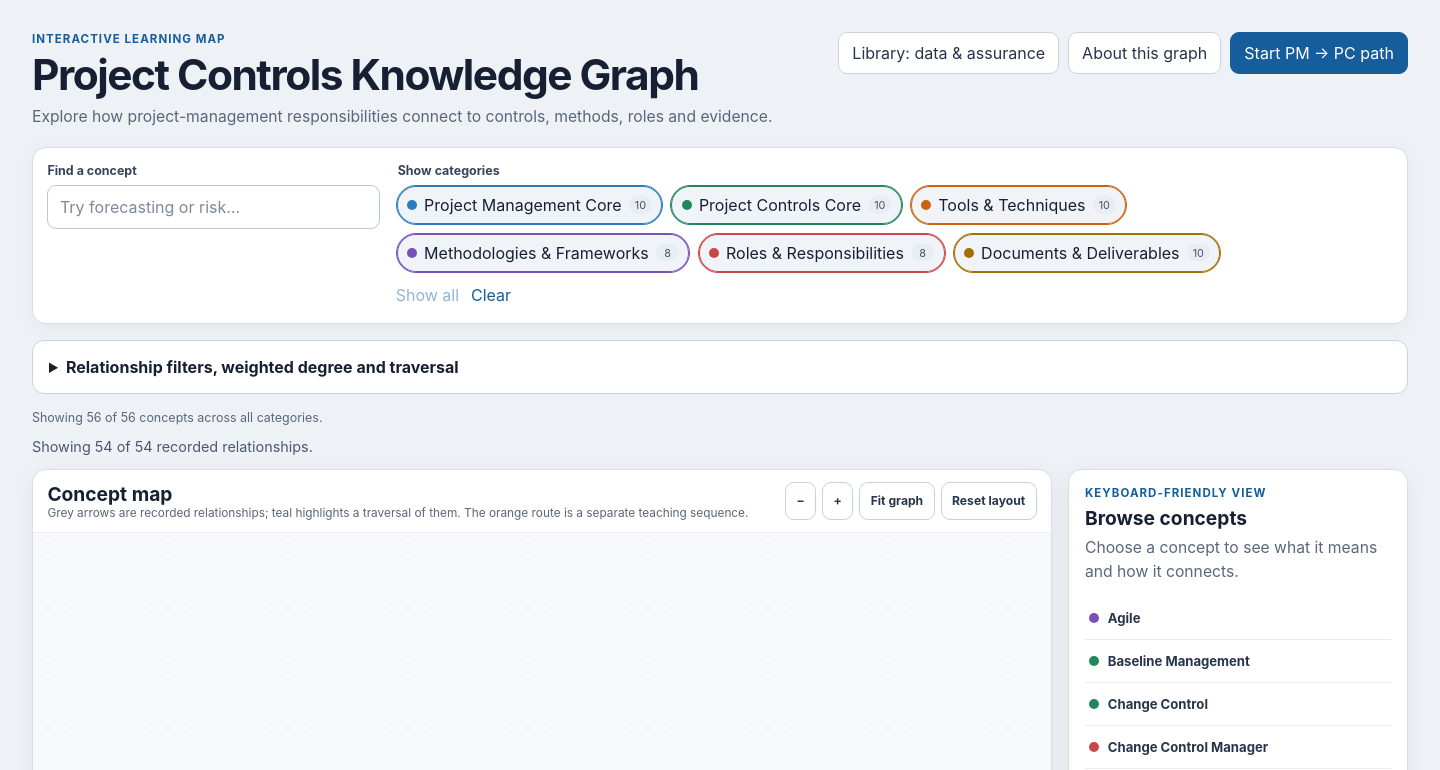
Test: Project Controls Knowledge Graph › keeps keyboard focus within About until it closes
Click the button "About this graph": [1145, 53] box [1068,32,1221,74]
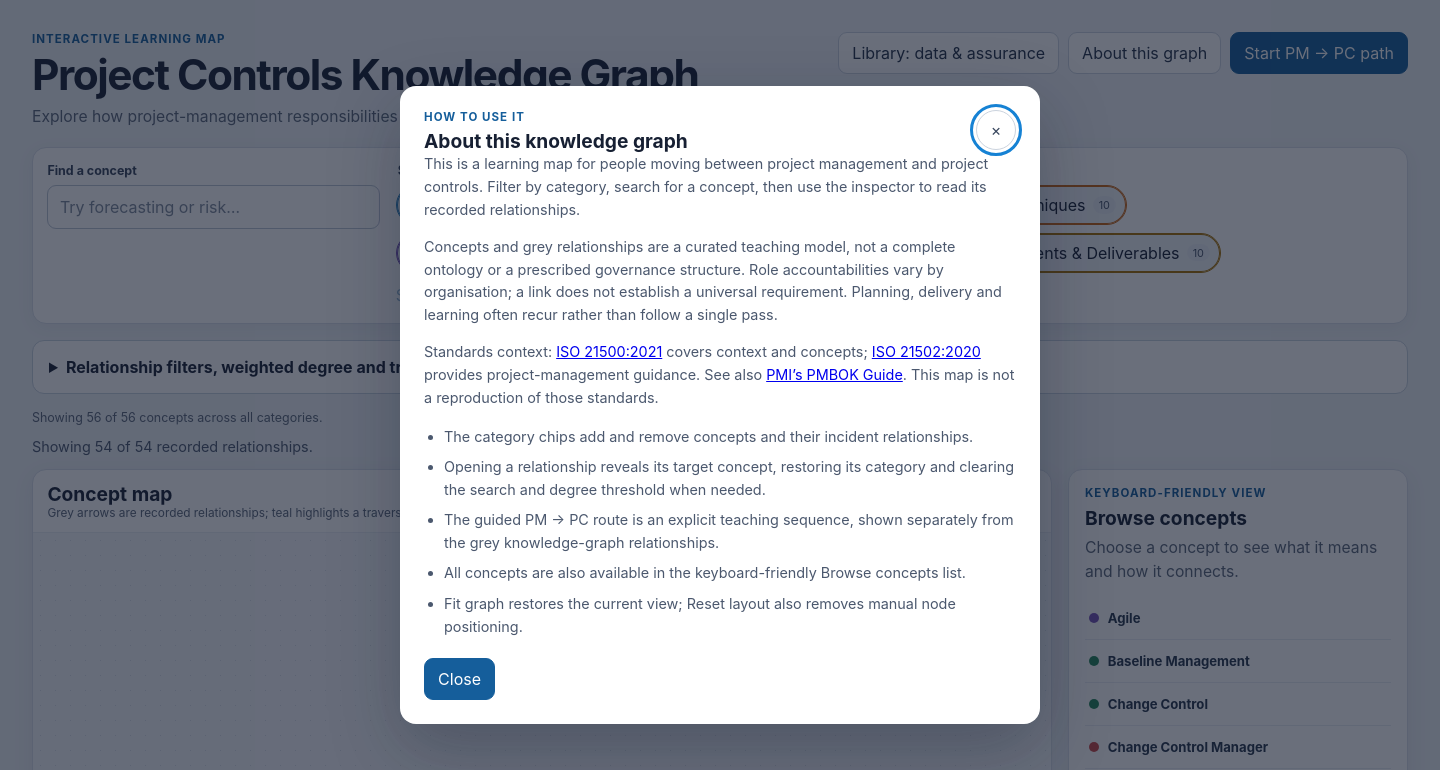
Press Shift+Tab
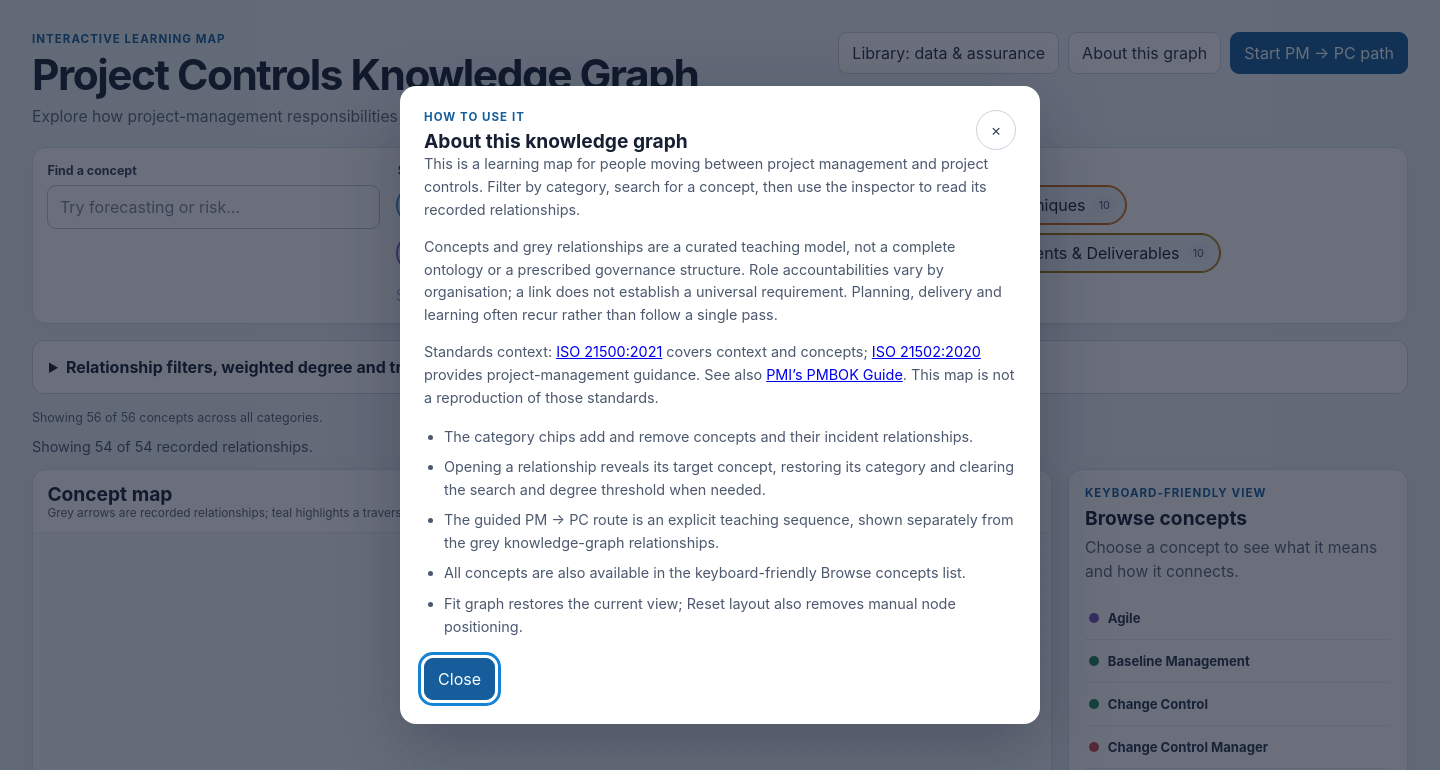
Press Tab
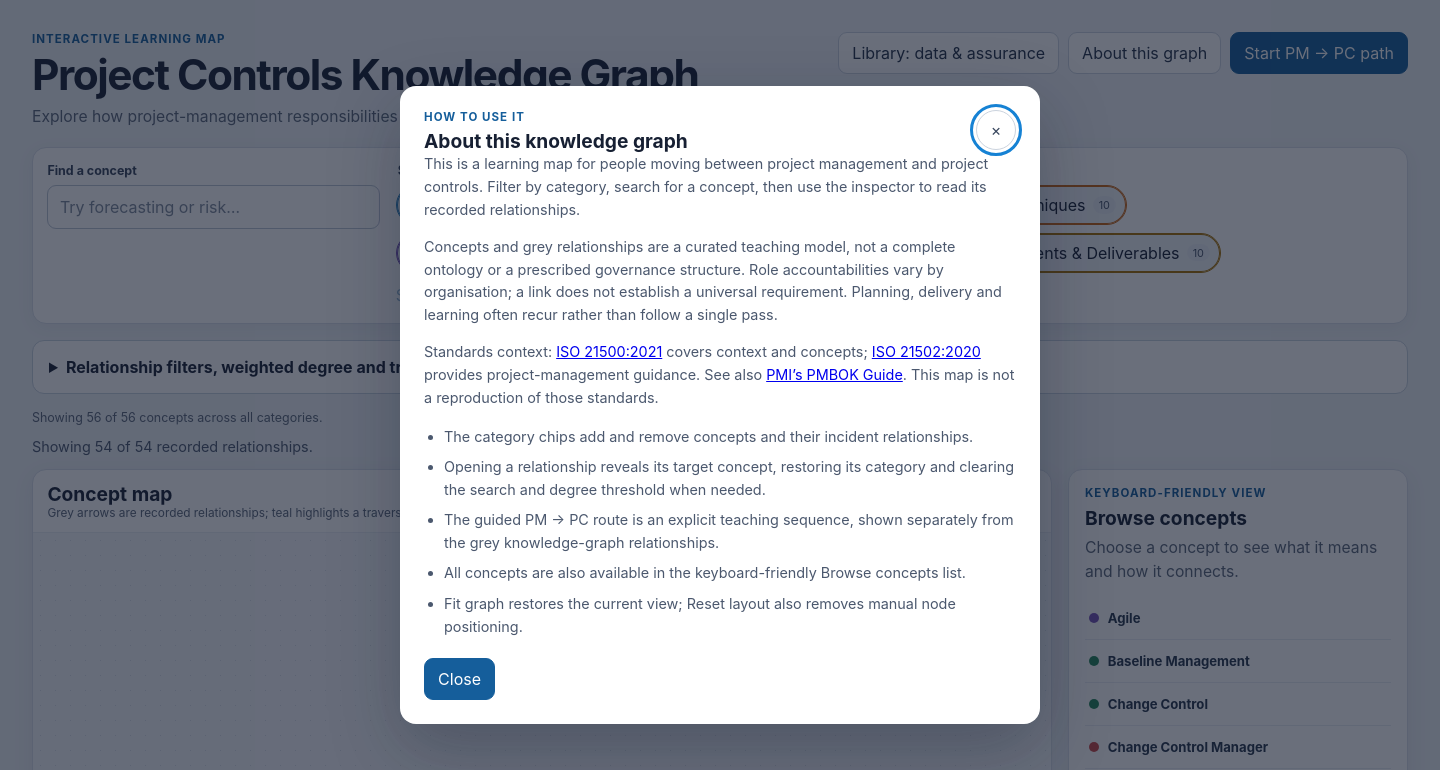
Press Escape
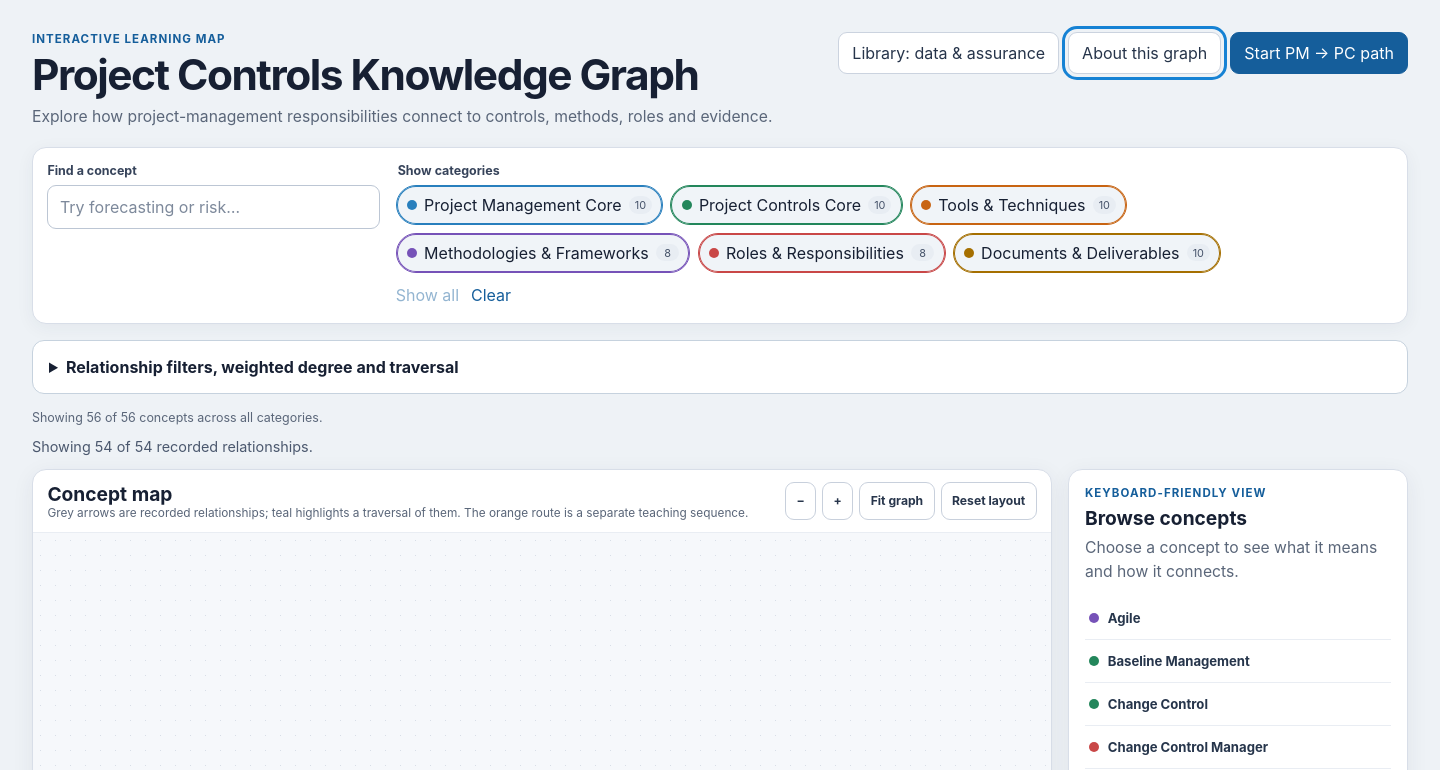
Now the dialog is gone
